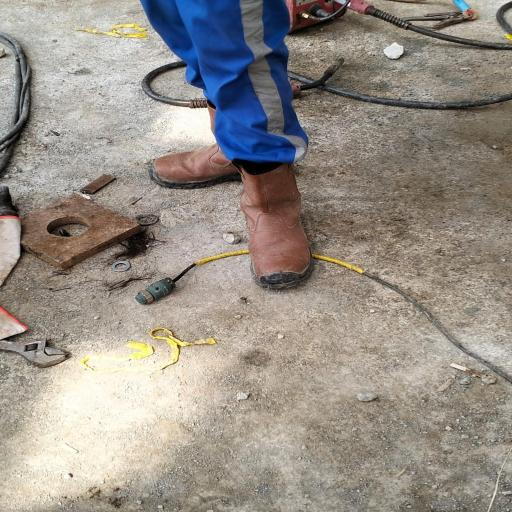safety_shoe: (233, 157, 320, 288), (146, 101, 246, 191)
